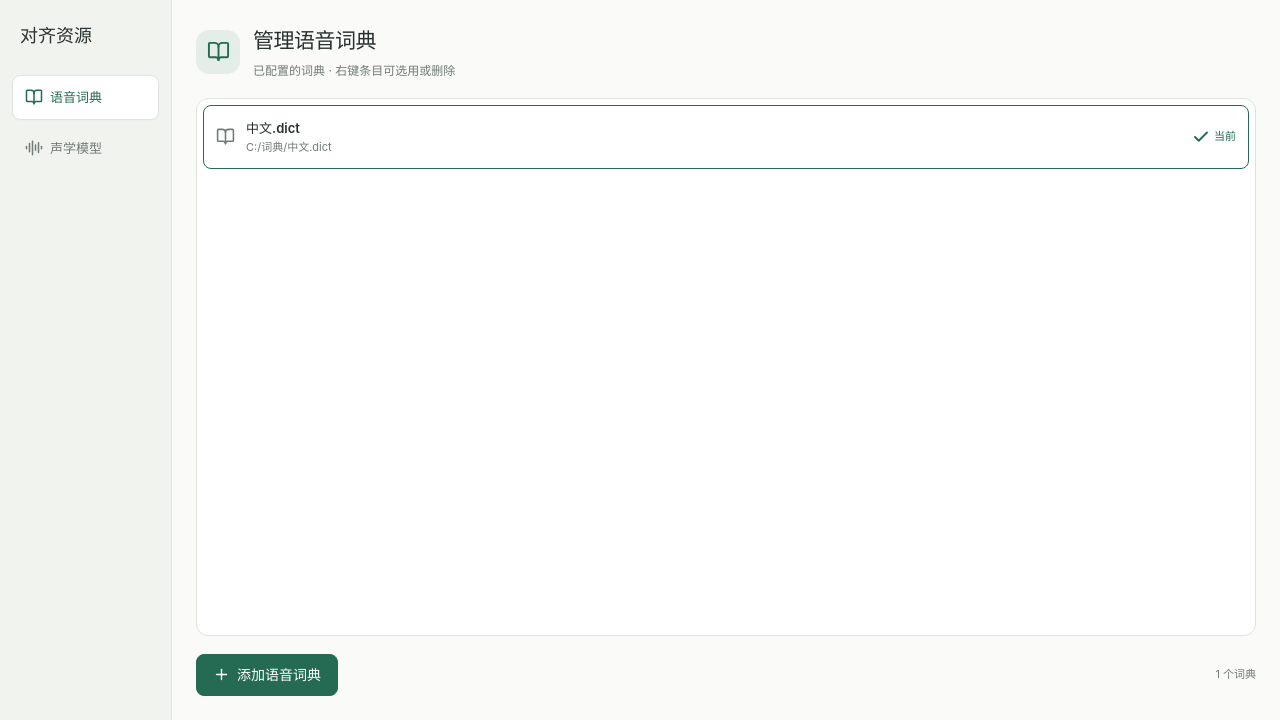
right-click deletion requires choosing delete; cancel leaves configuration intact
Right-click the button "中文.dict C:/词典/中文.dict 当前" at (273, 128), box 203,105 -> 1249,169
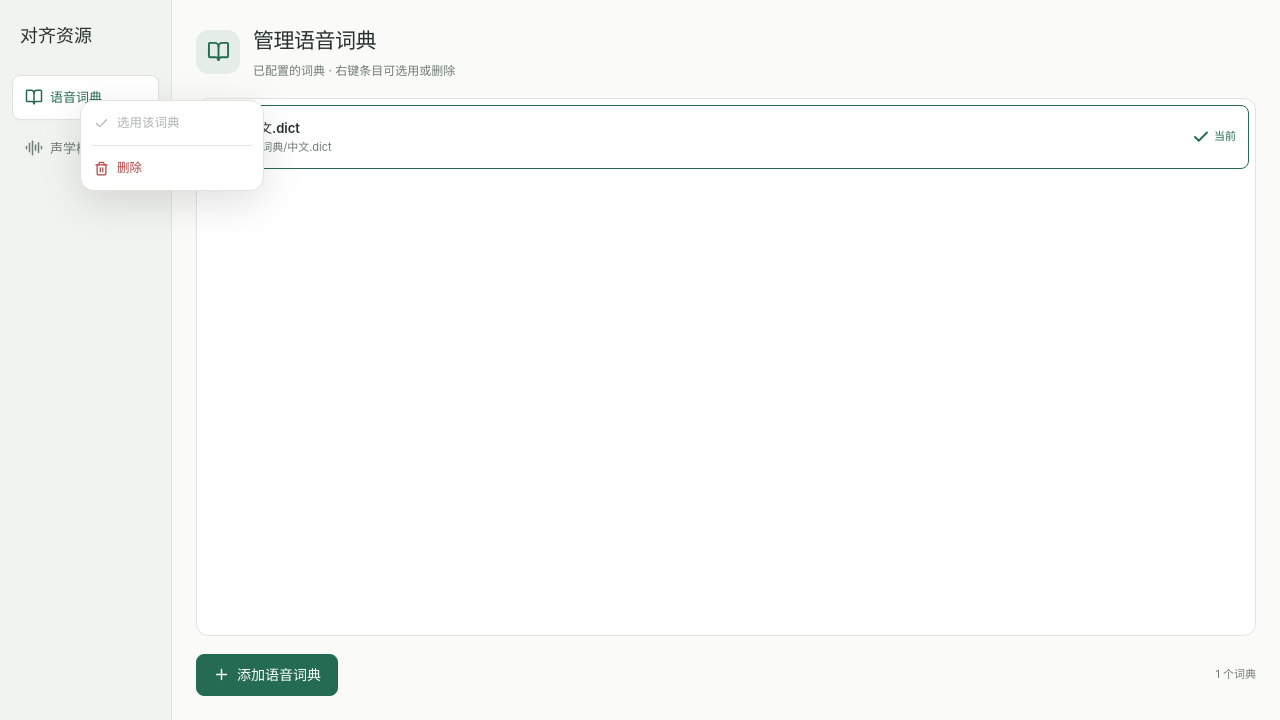
Click the menu item "删除" at (172, 168), box 86,151 -> 258,185
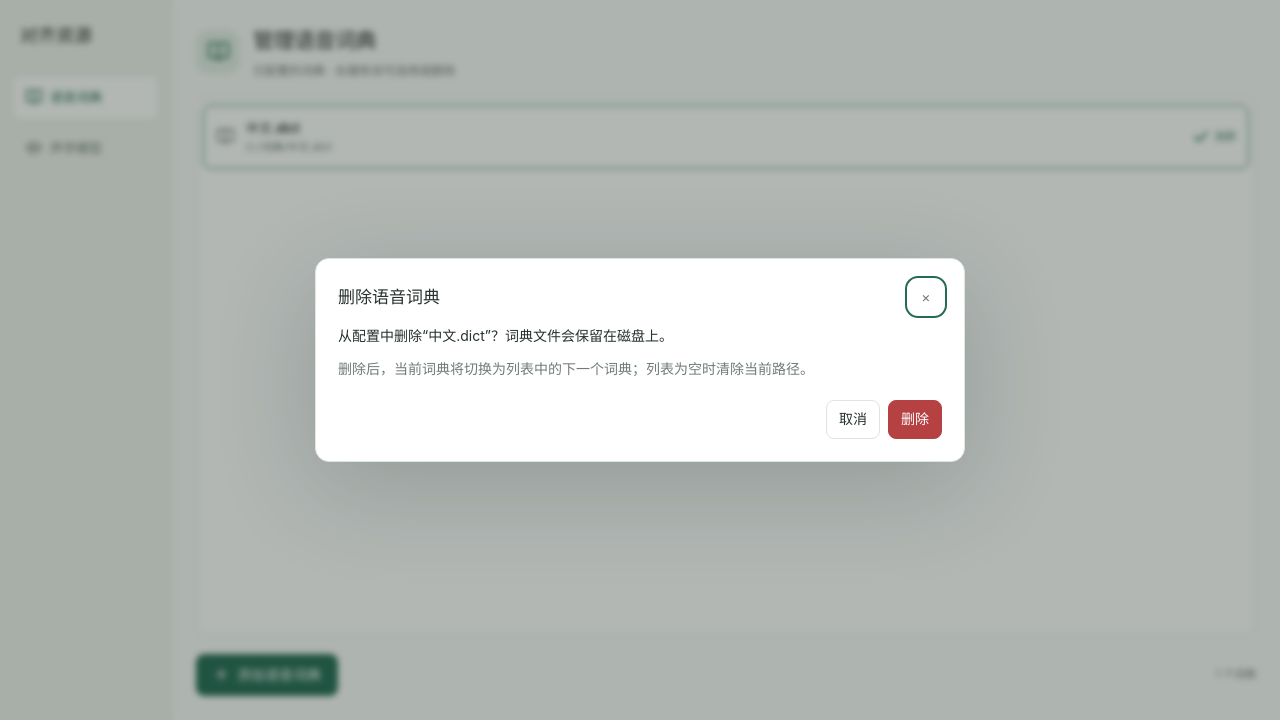
Click the button "取消" at (853, 419), box 826,400 -> 880,439
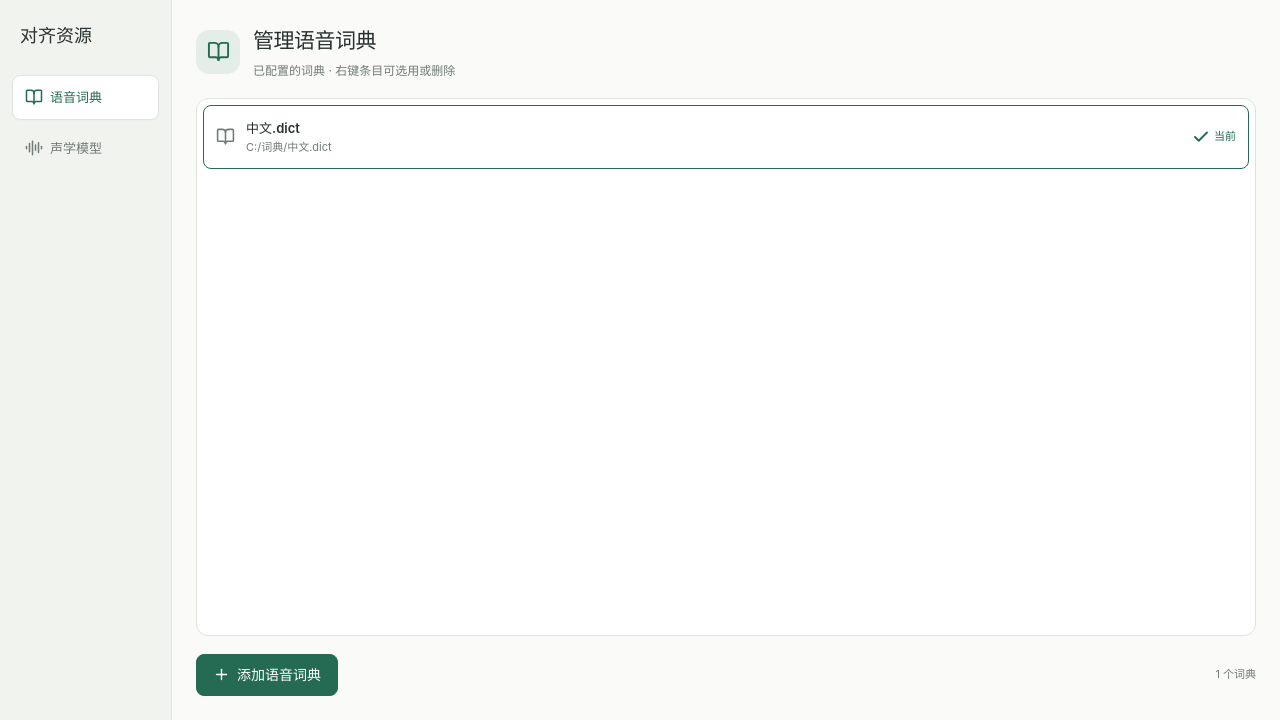
Right-click the button "中文.dict C:/词典/中文.dict 当前" at (273, 128), box 203,105 -> 1249,169
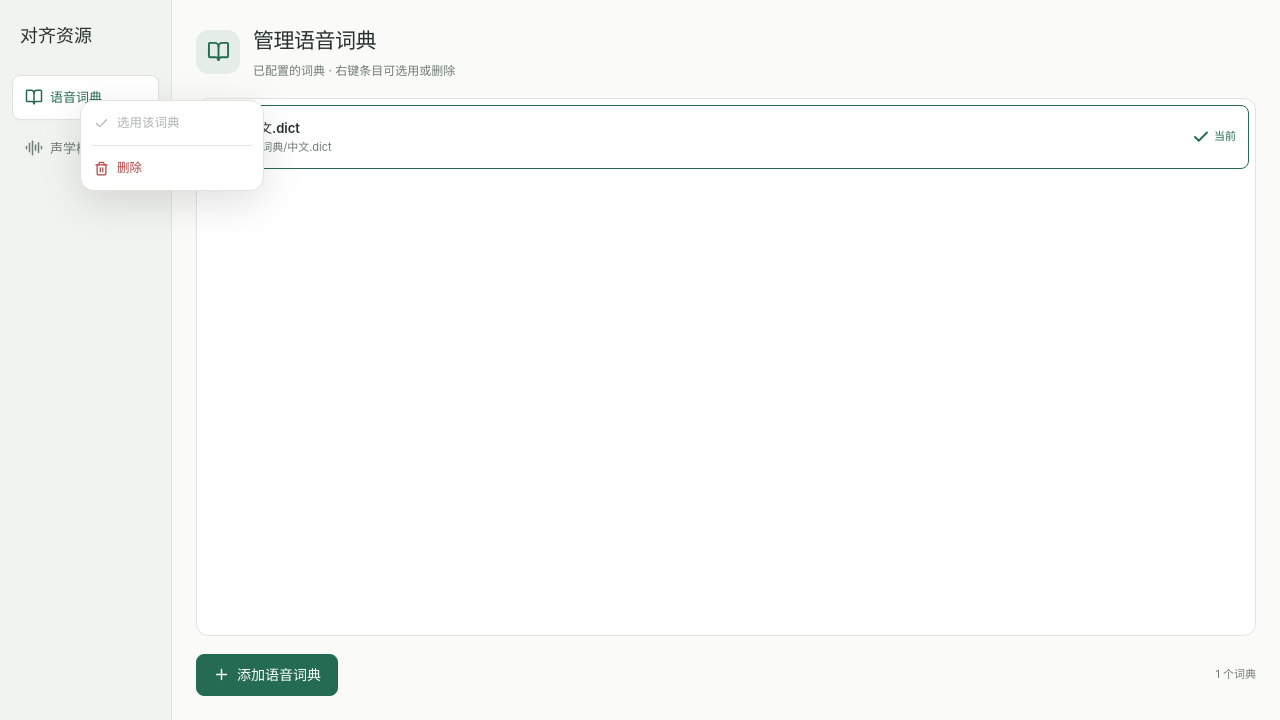
Click the menu item "删除" at (172, 168), box 86,151 -> 258,185
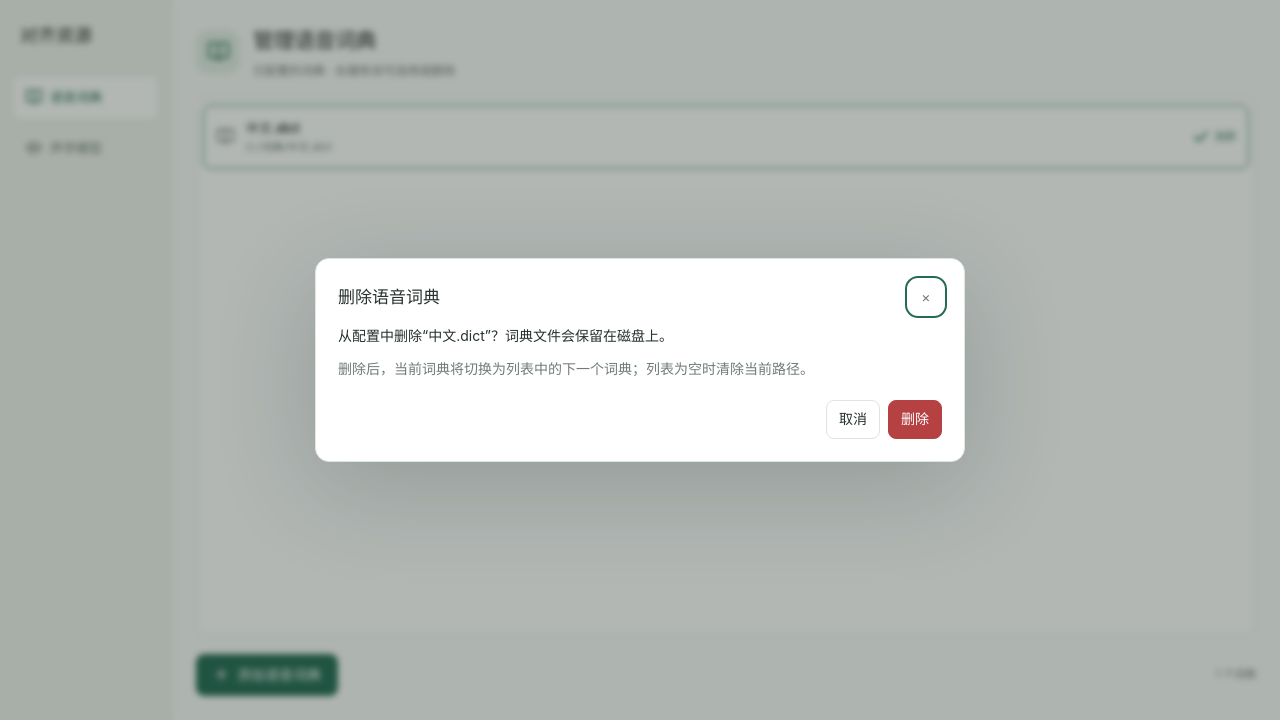
Click the button "删除" at (915, 419), box 888,400 -> 942,439
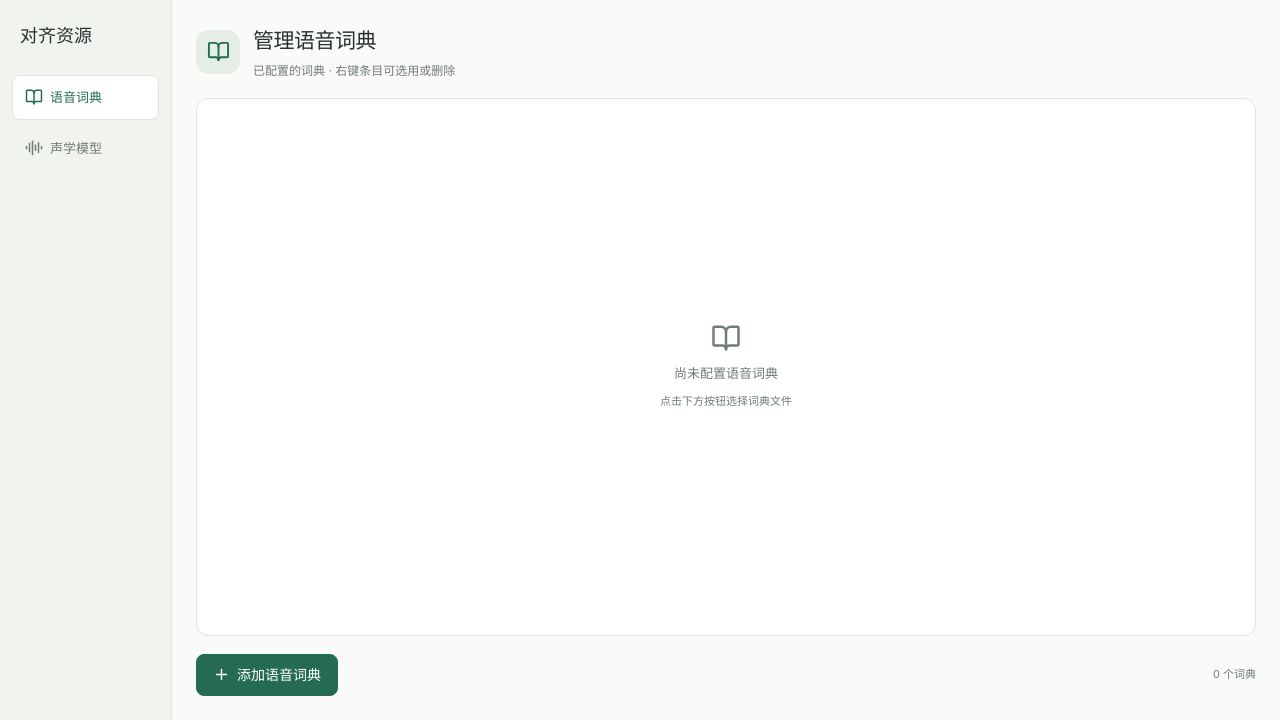
Now the text "尚未配置语音词典" is shown, box 674,362 -> 778,383
